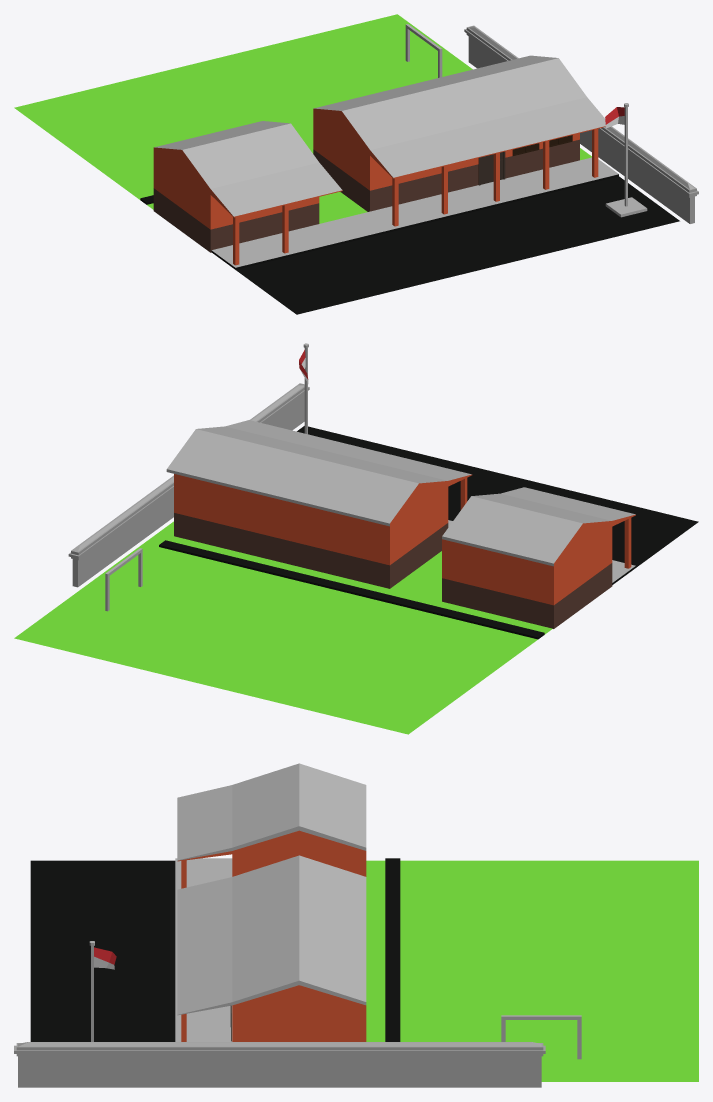
3 views of the same model, one above another, from view 1: azimuth 30°, elevation 25°; view 2: azimuth 150°, elevation 25°; view 3: azimuth 270°, elevation 25° (orthographic). The views are drawn at different scales.
Visible parts, largest first — view 1: Plane, Cube, Cube.001, Cube.002, Cube.004, Cube.003; view 2: Plane, Cube, Cube.001; view 3: Plane, Cube, Cube.001, Cube.003.
Part boxes in pixels (bbox=[...]): Plane: bbox=[14, 14, 679, 314]; Cube: bbox=[153, 55, 605, 265]; Cube.001: bbox=[464, 25, 698, 223]; Cube.002: bbox=[478, 135, 572, 185]; Cube.004: bbox=[605, 103, 647, 217]; Cube.003: bbox=[405, 24, 442, 77]; Plane: bbox=[14, 426, 698, 734]; Cube: bbox=[166, 420, 635, 628]; Cube.001: bbox=[68, 383, 309, 587]; Plane: bbox=[30, 858, 698, 1081]; Cube: bbox=[177, 763, 366, 1041]; Cube.001: bbox=[14, 1042, 545, 1087]; Cube.003: bbox=[501, 1015, 581, 1059].
Size of the model in its own units: 3016 by 769 by 3822.
